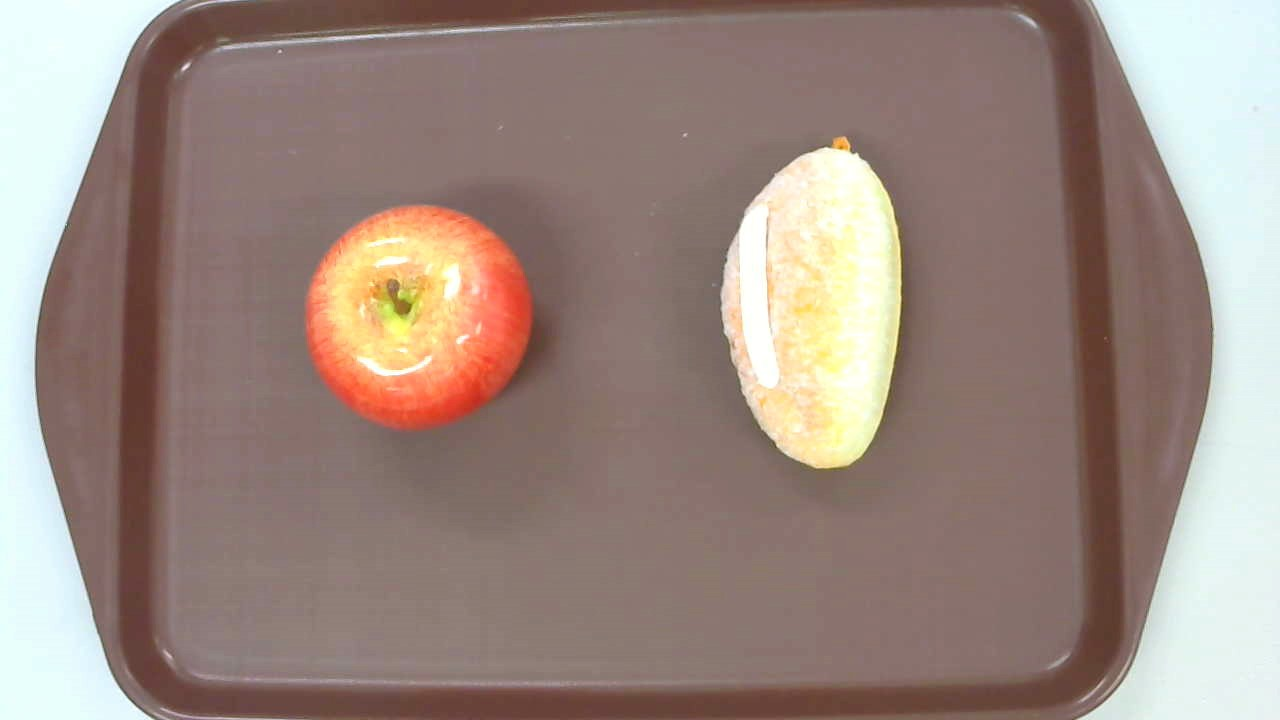coconut: (718, 136, 904, 468)
red apple: (304, 203, 534, 432)
